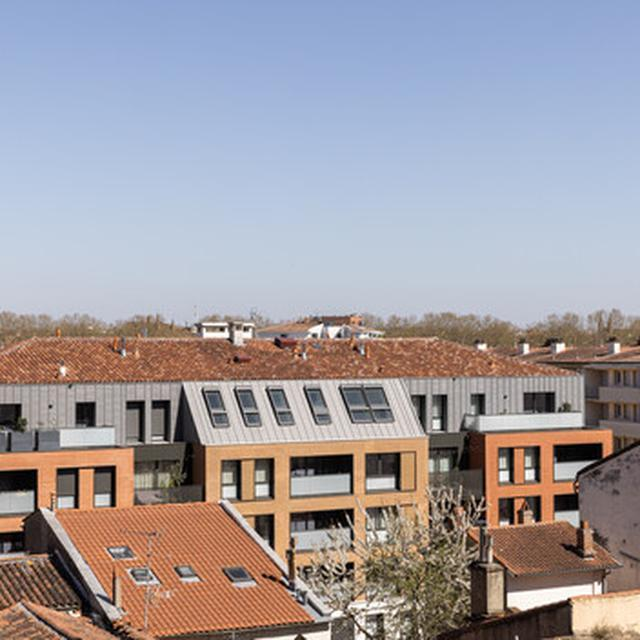building: (6, 334, 620, 526), (3, 493, 334, 640), (457, 514, 577, 593)
